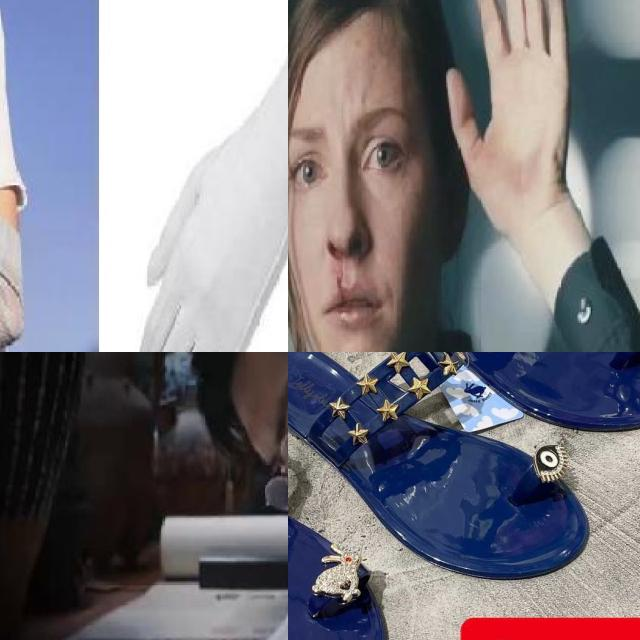No_Glasses: (288, 108, 414, 192)
Sandals: (288, 352, 619, 602), (288, 360, 392, 640), (337, 352, 640, 437)
face_nomask: (288, 57, 429, 352), (231, 352, 288, 525)
glasses: (258, 423, 288, 517)
hand_glove: (124, 138, 284, 352), (0, 0, 21, 138)
hand_noglove: (443, 0, 577, 257)
head_nohelmet: (288, 0, 435, 49), (172, 352, 258, 401)
person: (288, 0, 640, 352), (139, 352, 288, 640)
